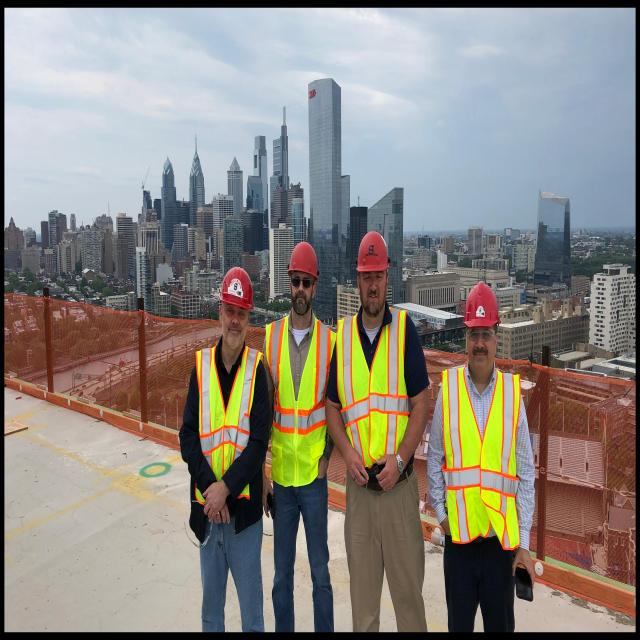Reflective-Jacket: (440, 362, 526, 550), (334, 304, 416, 484), (191, 340, 265, 504), (263, 312, 333, 485)
Safety-Helmet: (460, 278, 501, 330), (216, 263, 256, 308), (354, 228, 390, 274), (286, 238, 321, 277)
